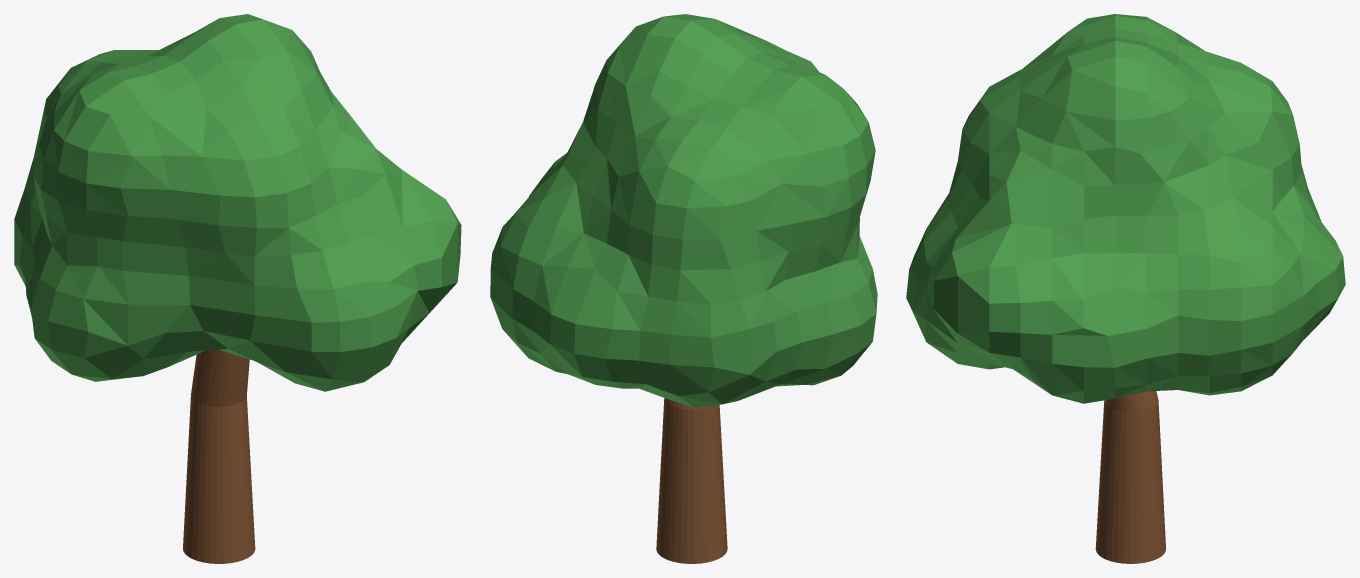
Rendered from ufo_tree5.fbx.
3 views of the same model, side by side, from view 1: azimuth 30°, elevation 25°; view 2: azimuth 150°, elevation 25°; view 3: azimuth 270°, elevation 25° (orthographic). The views are drawn at different scales.
Parts seen in each view (by area): view 1: Mball.019, Cylinder.004; view 2: Mball.019, Cylinder.004; view 3: Mball.019, Cylinder.004.
Part boxes in pixels (<box>): Mball.019: <box>14,14,461,391</box>; Cylinder.004: <box>183,349,255,563</box>; Mball.019: <box>490,14,877,407</box>; Cylinder.004: <box>656,398,727,563</box>; Mball.019: <box>906,14,1345,403</box>; Cylinder.004: <box>1095,391,1165,563</box>.
Bounding box in the file's own units: 273 × 379 × 295.
